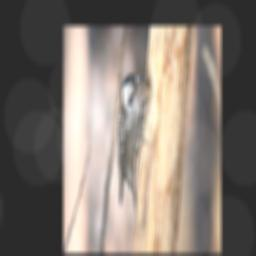Woodpecker: (117, 72, 149, 212)
